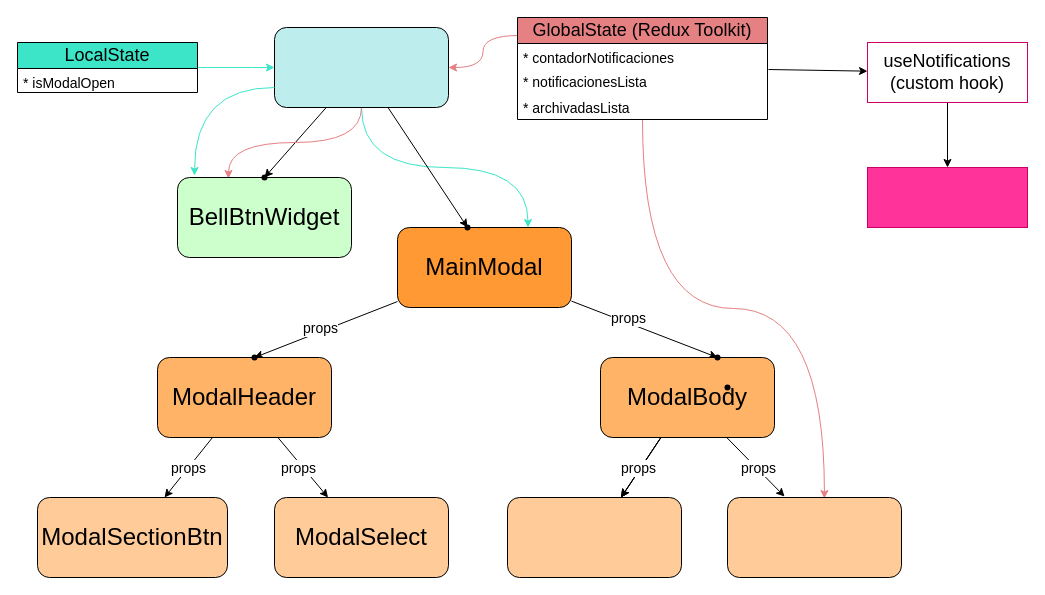
Some shapes in this 1045 by 595 pixel diagram are drawn without their labels. The shapes that lost their labels are listed below. From the top down, each one's centre as x and y in pixels, then its label:
At (x=361, y=67): "App".
At (x=947, y=197): "API (fetch, socket.io )".
At (x=594, y=537): "BodyFilters".
At (x=814, y=537): "BodyLista".
